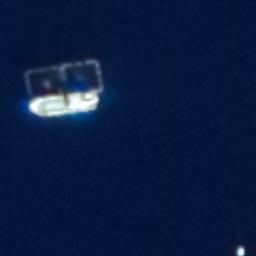square_solid: (55, 56, 108, 103), (20, 63, 67, 105)
